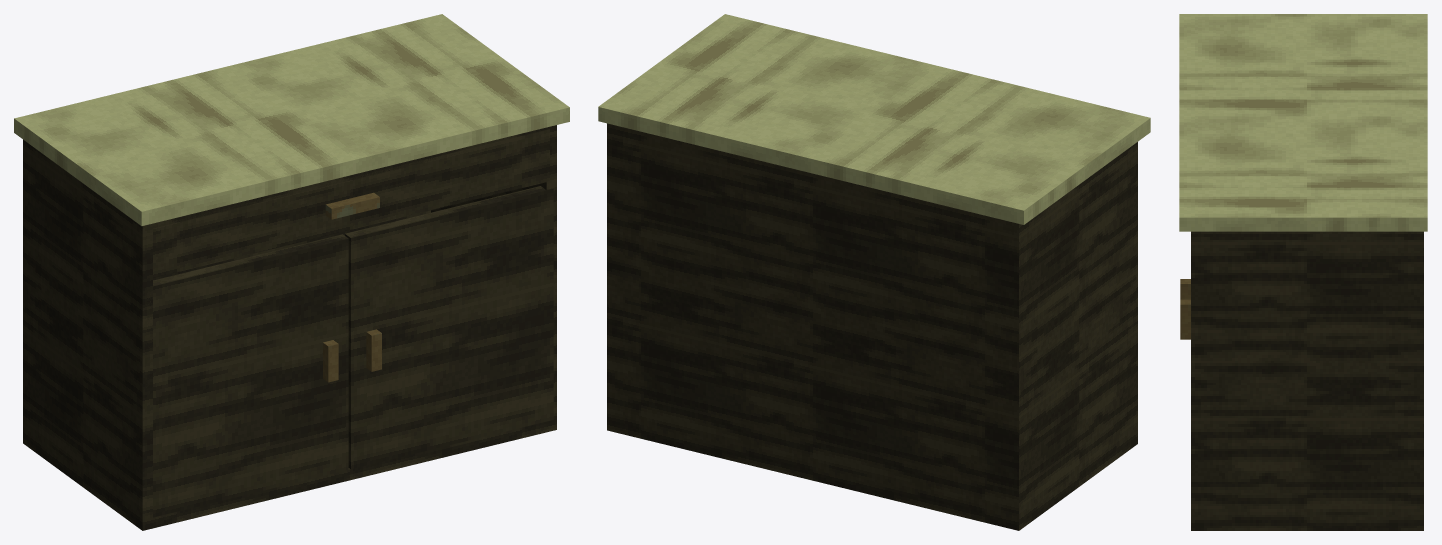
File: Counter.fbx
3 views of the same model, side by side, from view 1: azimuth 30°, elevation 25°; view 2: azimuth 150°, elevation 25°; view 3: azimuth 270°, elevation 25° (orthographic). The views are drawn at different scales.
Parts seen in each view (by area): view 1: Counter_Top, Counter_Body, Counter_DoorR_Panel, Counter_DoorL_Panel, Counter_Drawer_Front, Counter_Drawer_Handle, Counter_DoorL_Handle, Counter_DoorR_Handle; view 2: Counter_Body, Counter_Top; view 3: Counter_Body, Counter_Top, Counter_DoorR_Handle.
Part boxes in pixels (x1=…): Counter_Top: x1=14, y1=14, x2=569, y2=225; Counter_Body: x1=23, y1=125, x2=556, y2=530; Counter_DoorR_Panel: x1=345, y1=186, x2=553, y2=469; Counter_DoorL_Panel: x1=147, y1=234, x2=348, y2=517; Counter_Drawer_Front: x1=151, y1=129, x2=549, y2=277; Counter_Drawer_Handle: x1=325, y1=192, x2=379, y2=219; Counter_DoorL_Handle: x1=323, y1=340, x2=338, y2=382; Counter_DoorR_Handle: x1=366, y1=329, x2=381, y2=371; Counter_Body: x1=607, y1=123, x2=1137, y2=530; Counter_Top: x1=598, y1=14, x2=1150, y2=224; Counter_Body: x1=1191, y1=231, x2=1423, y2=530; Counter_Top: x1=1179, y1=14, x2=1427, y2=231; Counter_DoorR_Handle: x1=1180, y1=299, x2=1190, y2=339.
Bounding box in the file's own units: 1.24 × 0.9 × 0.64.
3 materials, 3 textured.
